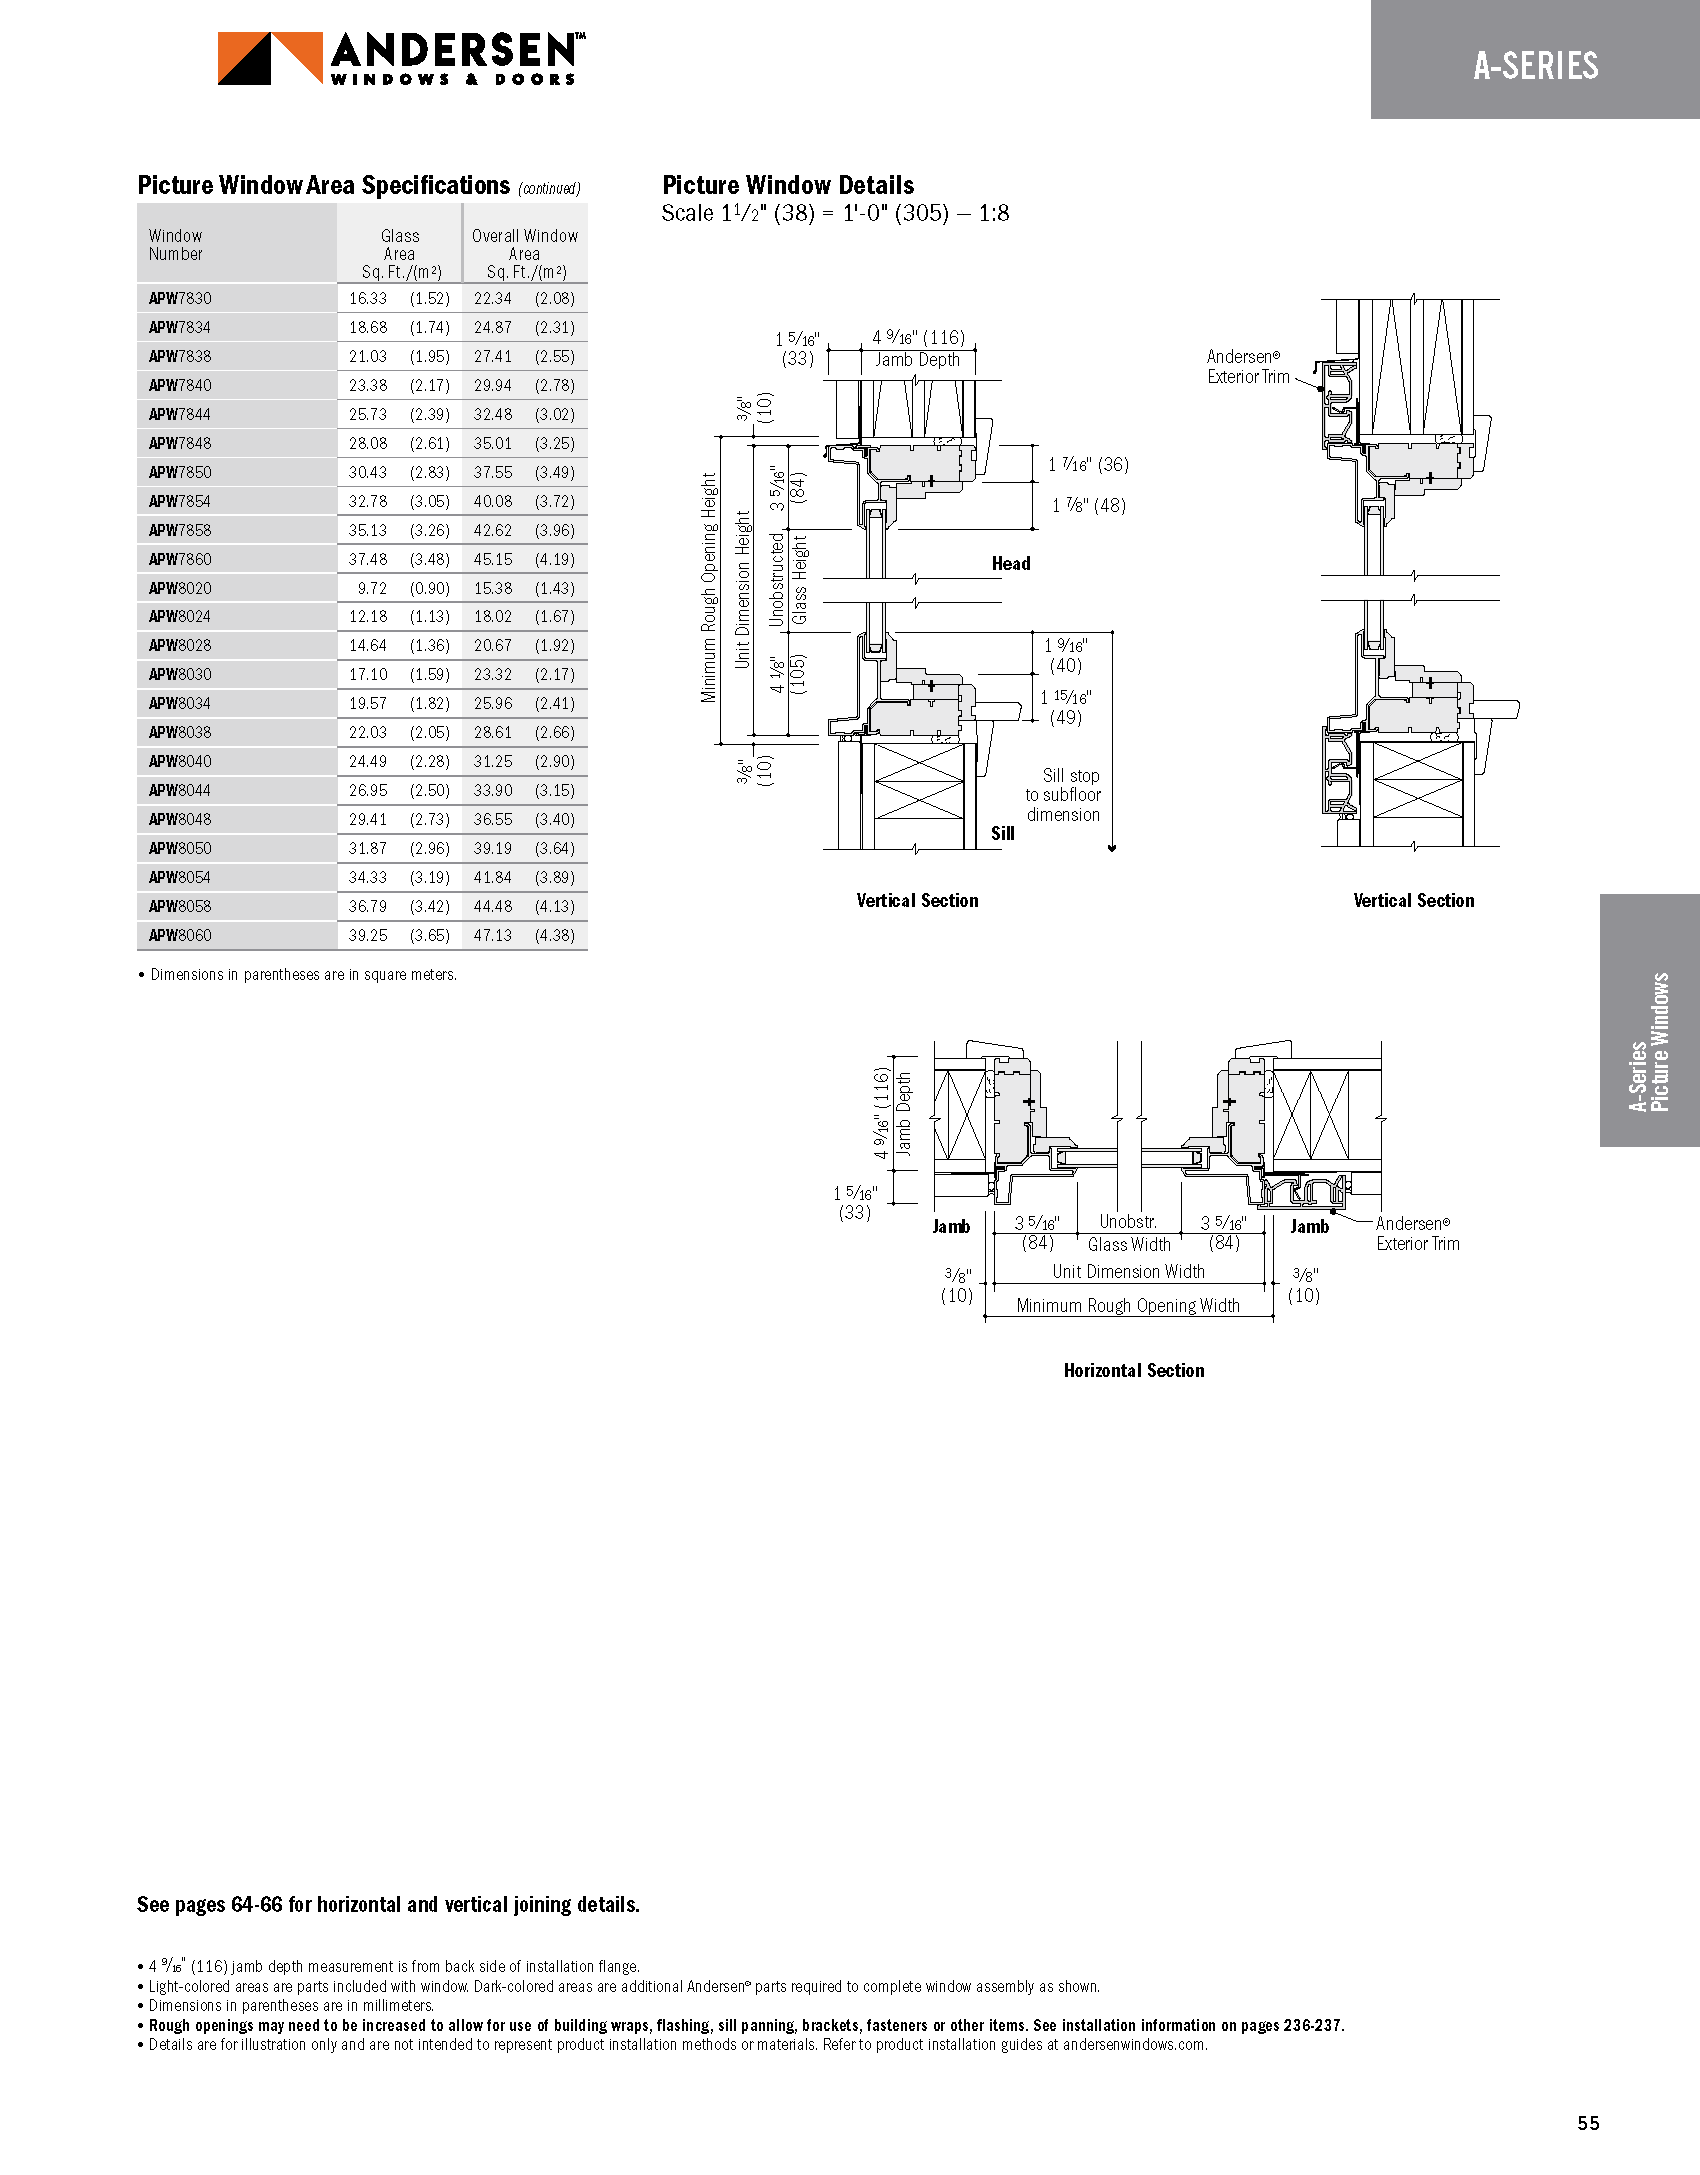tabledetected: (138, 201, 584, 952)
